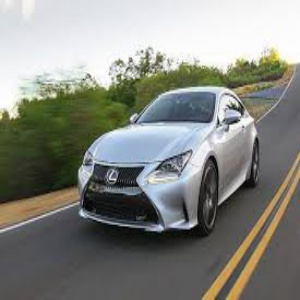bumper: (165, 191, 198, 233)
